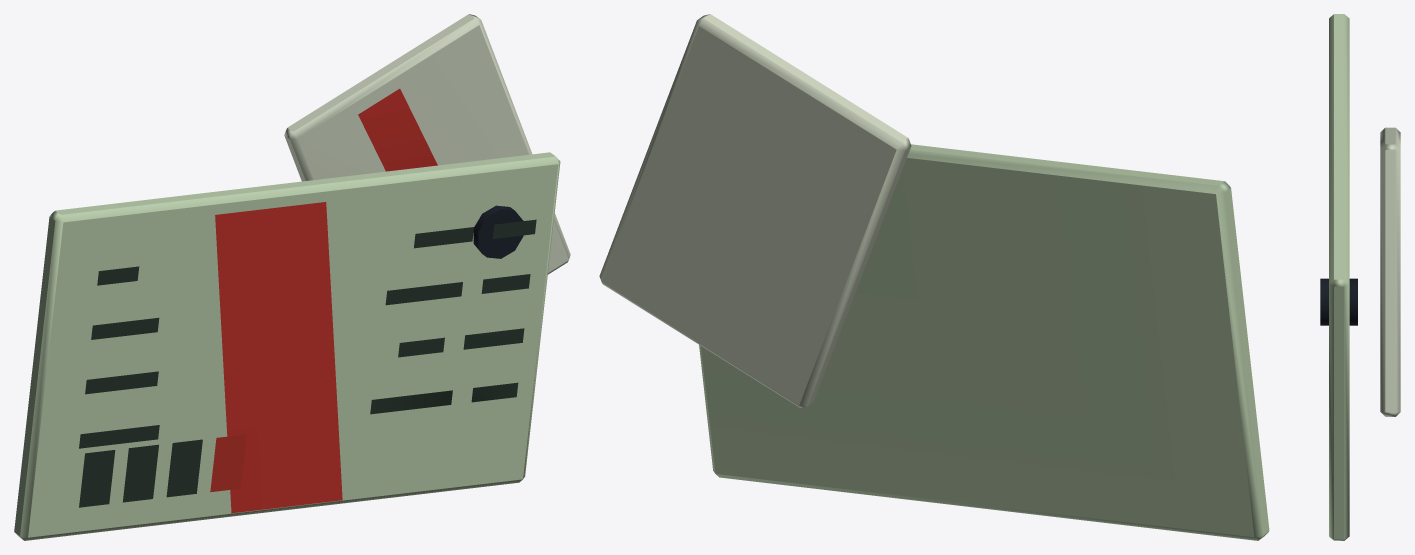
Rendered from keepsake-ticket.glb.
3 views of the same model, side by side, from view 1: azimuth 30°, elevation 25°; view 2: azimuth 150°, elevation 25°; view 3: azimuth 270°, elevation 25° (orthographic). The views are drawn at different scales.
Visible parts, largest first — view 1: Keepsake ticket Plaster; view 2: Keepsake ticket Plaster; view 3: Keepsake ticket Plaster.
Boxes of the visible parts, x1,y1,x2,y2 form: Keepsake ticket Plaster: [14, 14, 570, 540]; Keepsake ticket Plaster: [599, 14, 1269, 540]; Keepsake ticket Plaster: [1320, 14, 1400, 540].
Size of the model in its own units: 0.3421 by 0.2516 by 0.06.
